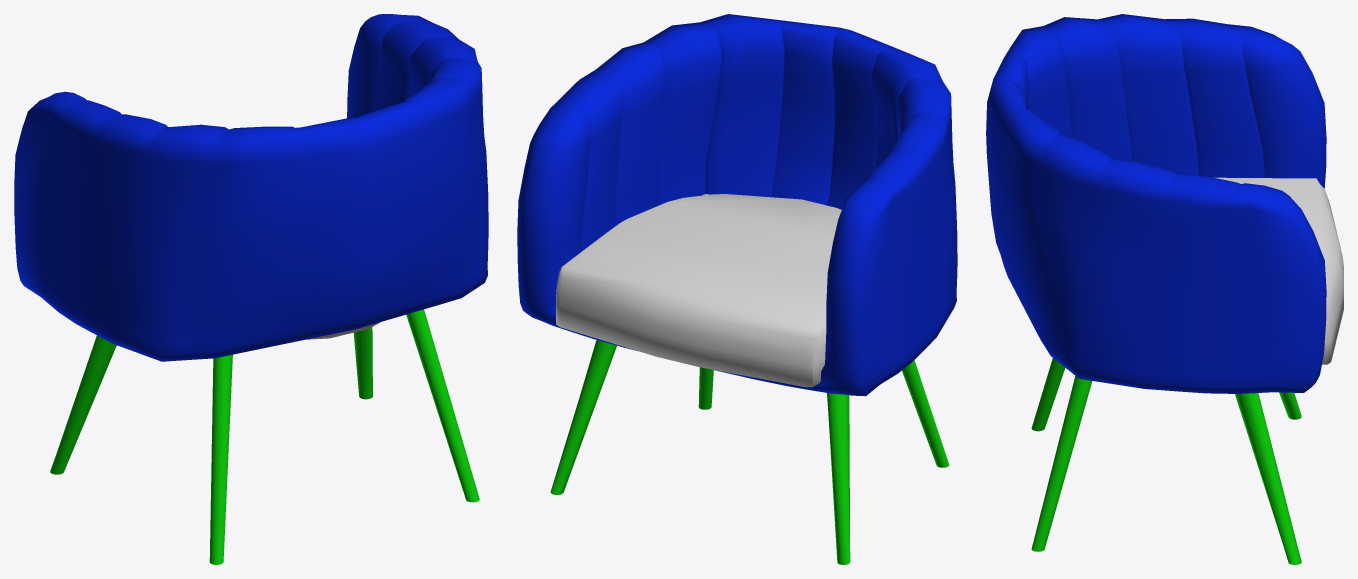
Rendered from legard.fbx.
3 renders of one model, left to right at view 1: azimuth 30°, elevation 25°; view 2: azimuth 150°, elevation 25°; view 3: azimuth 270°, elevation 25°, orthographic. The views are drawn at different scales.
Parts seen in each view (by area): view 1: chair; view 2: chair, pillow; view 3: chair, pillow.
Boxes of the visible parts, x1,y1,x2,y2 form: chair: (14,14,488,564); chair: (517,14,957,564); pillow: (556,194,841,387); chair: (986,14,1326,564); pillow: (1214,177,1343,364).
Bounding box in the file's own units: 319 × 350 × 276.
